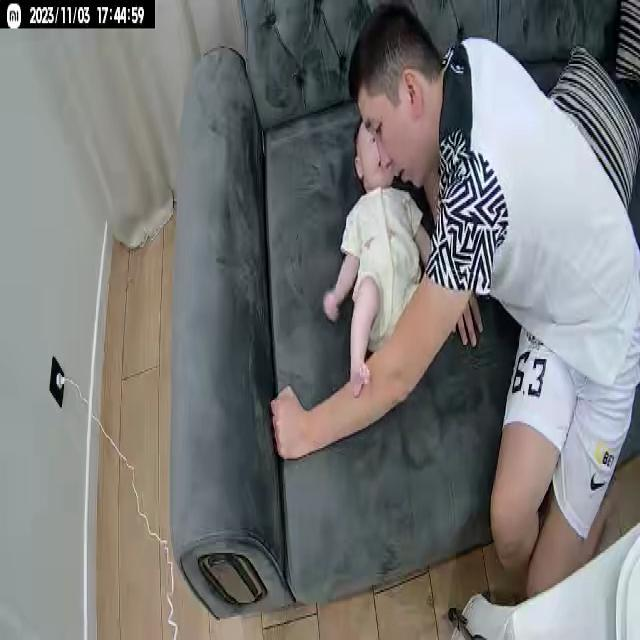baby: (321, 98, 437, 396)
